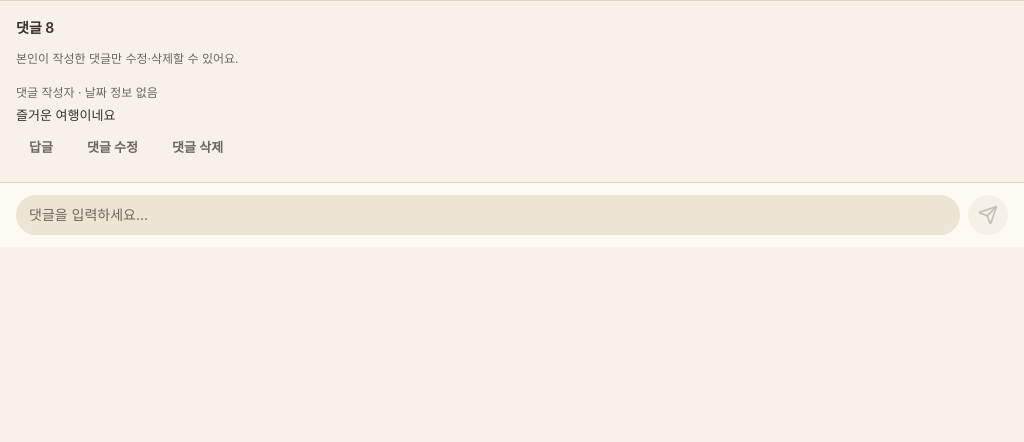
Test: persisted post comments › cancels edits without writing and disables blank saves
Later steps or results of the test are not shown.
Click the button "댓글 수정".
click(112, 148)  # box [74,130,151,166]
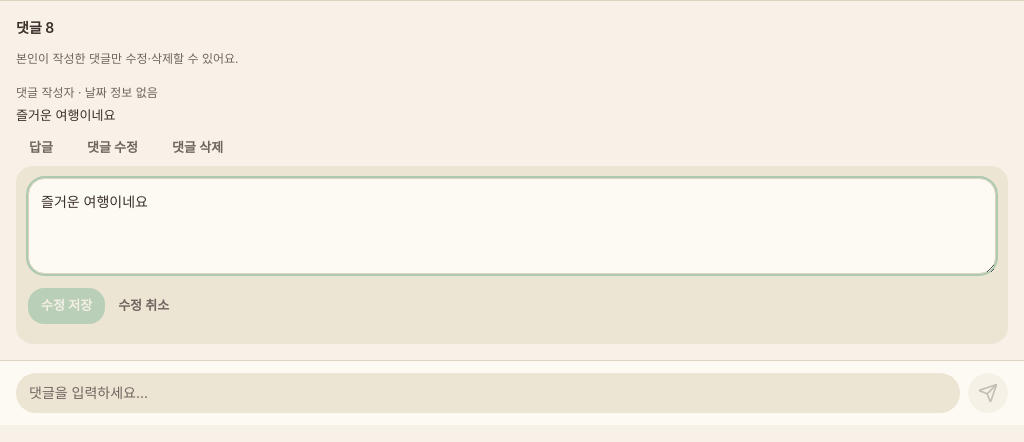
Clear the text box named "수정할 댓글 내용" at (512, 226), box [28,178,996,274]
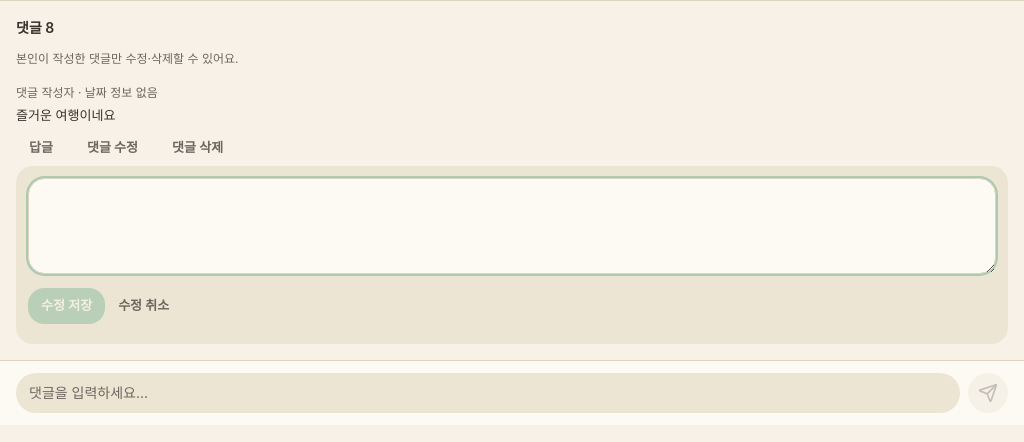
expect the button "수정 저장" is disabled: met, box [28,288,105,324]
